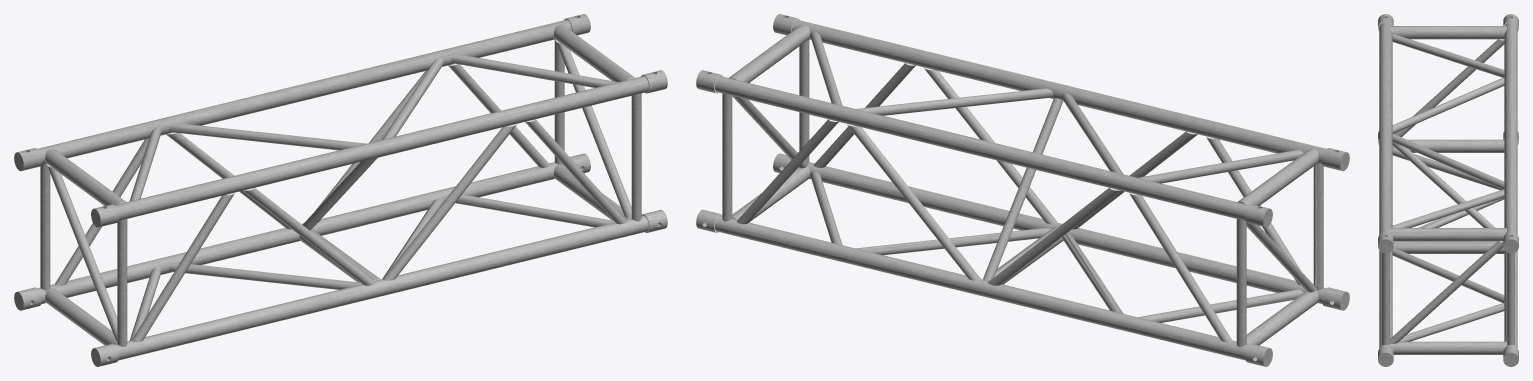
Rendered from Milos_M520_2000_truss_section-6237292d.glb.
3 renders of one model, left to right at view 1: azimuth 30°, elevation 25°; view 2: azimuth 150°, elevation 25°; view 3: azimuth 270°, elevation 25°, orthographic. The views are drawn at different scales.
Visible parts, largest first — view 1: Geom3D; view 2: Geom3D; view 3: Geom3D.
Boxes of the visible parts, x1,y1,x2,y2 form: Geom3D: (14,14,667,366); Geom3D: (696,14,1349,366); Geom3D: (1378,14,1518,366).
Size of the model in its own units: 2 by 0.529 by 0.529.
2 materials, 1 textured.
